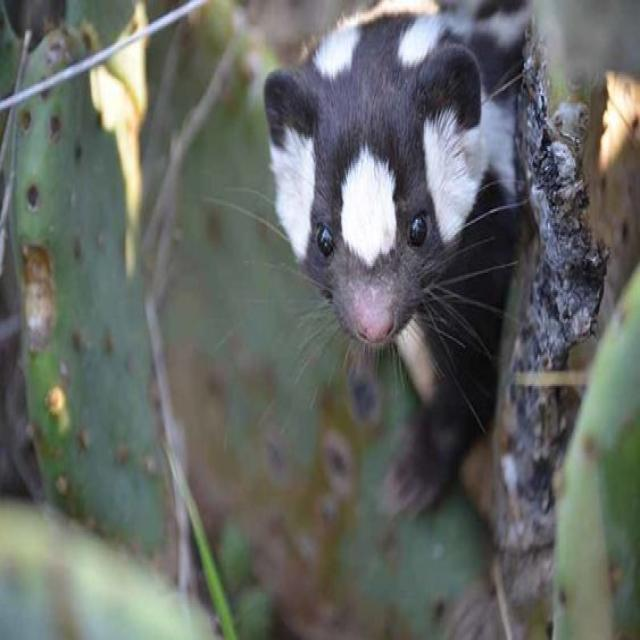Skunk: (248, 0, 551, 498)
